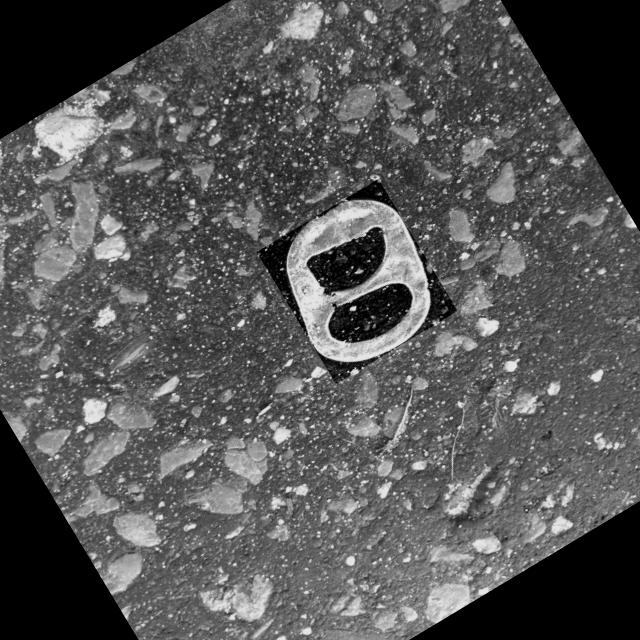Pop tab: (287, 199, 432, 363)
